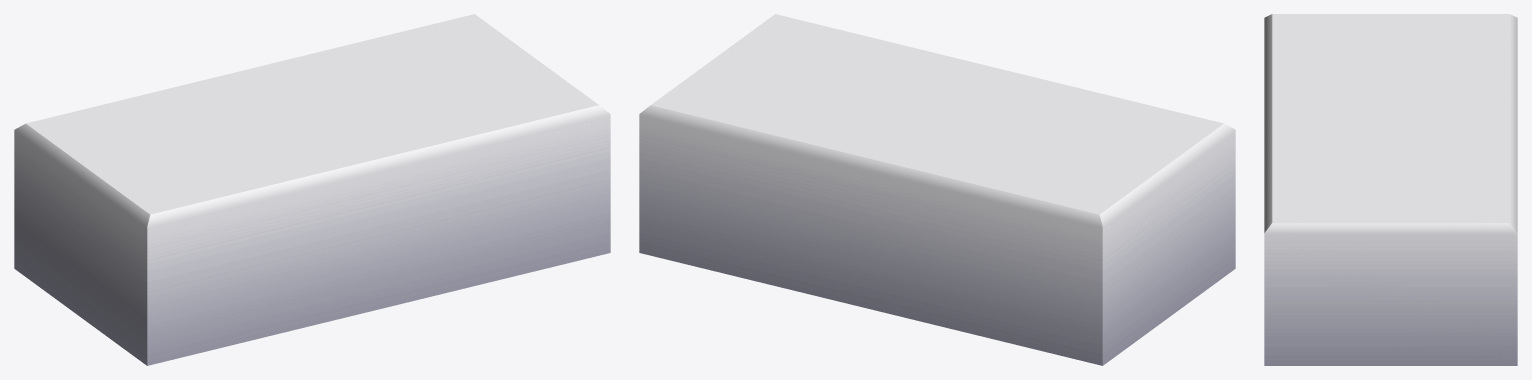
Rendered from brick-kit--none-hq-brick-2x4.glb.
3 renders of one model, left to right at view 1: azimuth 30°, elevation 25°; view 2: azimuth 150°, elevation 25°; view 3: azimuth 270°, elevation 25°, orthographic. The views are drawn at different scales.
Parts seen in each view (by area): view 1: none-hq-brick-2x4; view 2: none-hq-brick-2x4; view 3: none-hq-brick-2x4.
Part boxes in pixels (x1=…): none-hq-brick-2x4: x1=14, y1=14, x2=610, y2=365; none-hq-brick-2x4: x1=639, y1=14, x2=1235, y2=365; none-hq-brick-2x4: x1=1264, y1=14, x2=1517, y2=365.
Bounding box in the file's own units: 0.318 × 0.096 × 0.158.
Materials: 1 (1 with a texture image).
